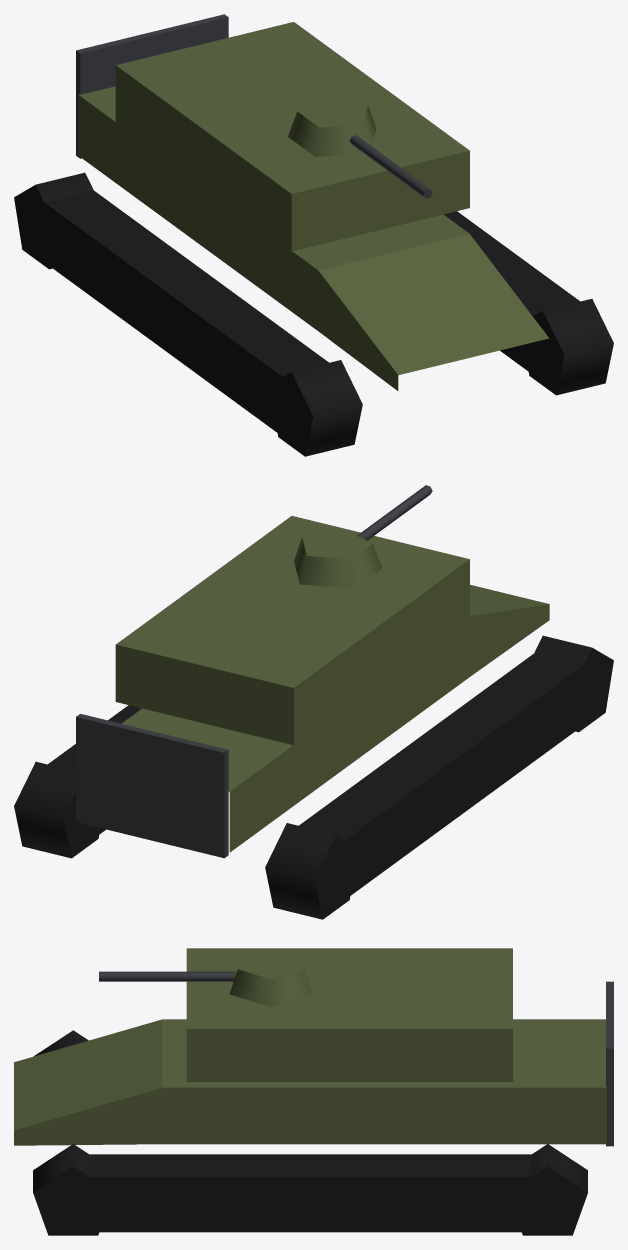
File: veh_ground_apc_tracked_a06_lod1.glb
3 views of the same model, one above another, from view 1: azimuth 30°, elevation 25°; view 2: azimuth 150°, elevation 25°; view 3: azimuth 270°, elevation 25° (orthographic). The views are drawn at different scales.
Visible parts, largest first — view 1: body, track_r, track_l, gun, ramp; view 2: body, track_r, ramp, track_l, gun; view 3: body, track_l, gun, ramp, track_r.
Part boxes in pixels (x1,y1,x2,y2): body: [78, 22, 549, 390]; track_r: [14, 172, 362, 456]; track_l: [444, 211, 613, 395]; gun: [288, 97, 432, 198]; ramp: [76, 14, 228, 158]; body: [115, 516, 549, 852]; track_r: [265, 635, 613, 919]; ramp: [76, 714, 228, 858]; track_l: [14, 705, 141, 858]; gun: [294, 485, 432, 589]; body: [14, 948, 606, 1145]; track_l: [33, 1144, 587, 1235]; gun: [99, 952, 312, 1007]; ramp: [606, 981, 613, 1146]; track_r: [33, 1030, 88, 1056].
Bounding box in the file's own units: 3.29 × 2.29 × 6.13.
